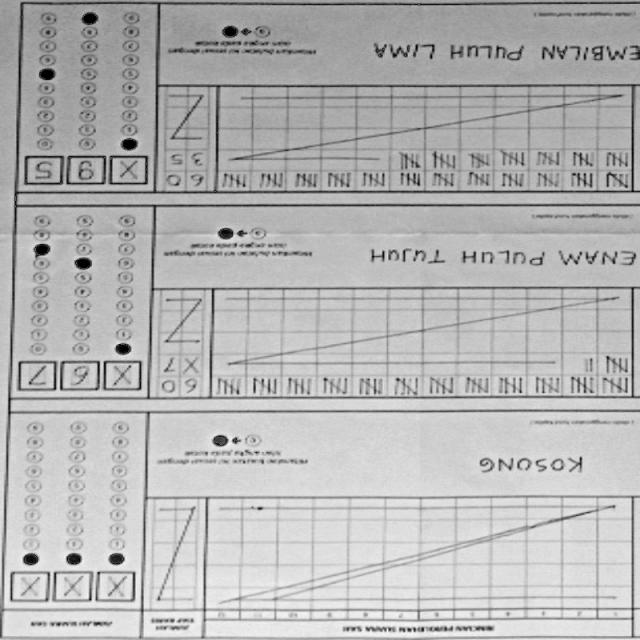Suara: (25, 154, 156, 191), (15, 569, 142, 606), (19, 359, 142, 397)
